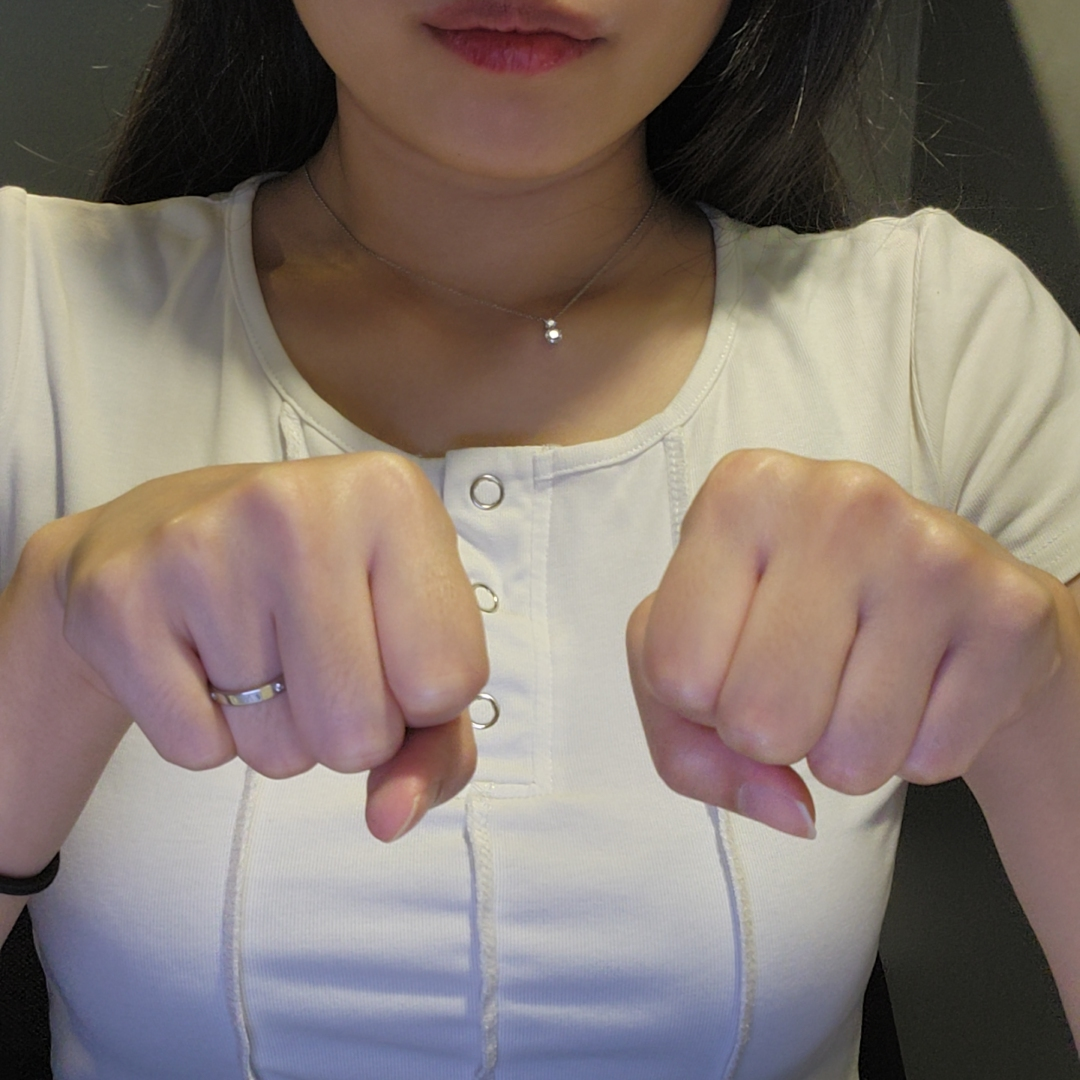hello: (75, 447, 1053, 842)
